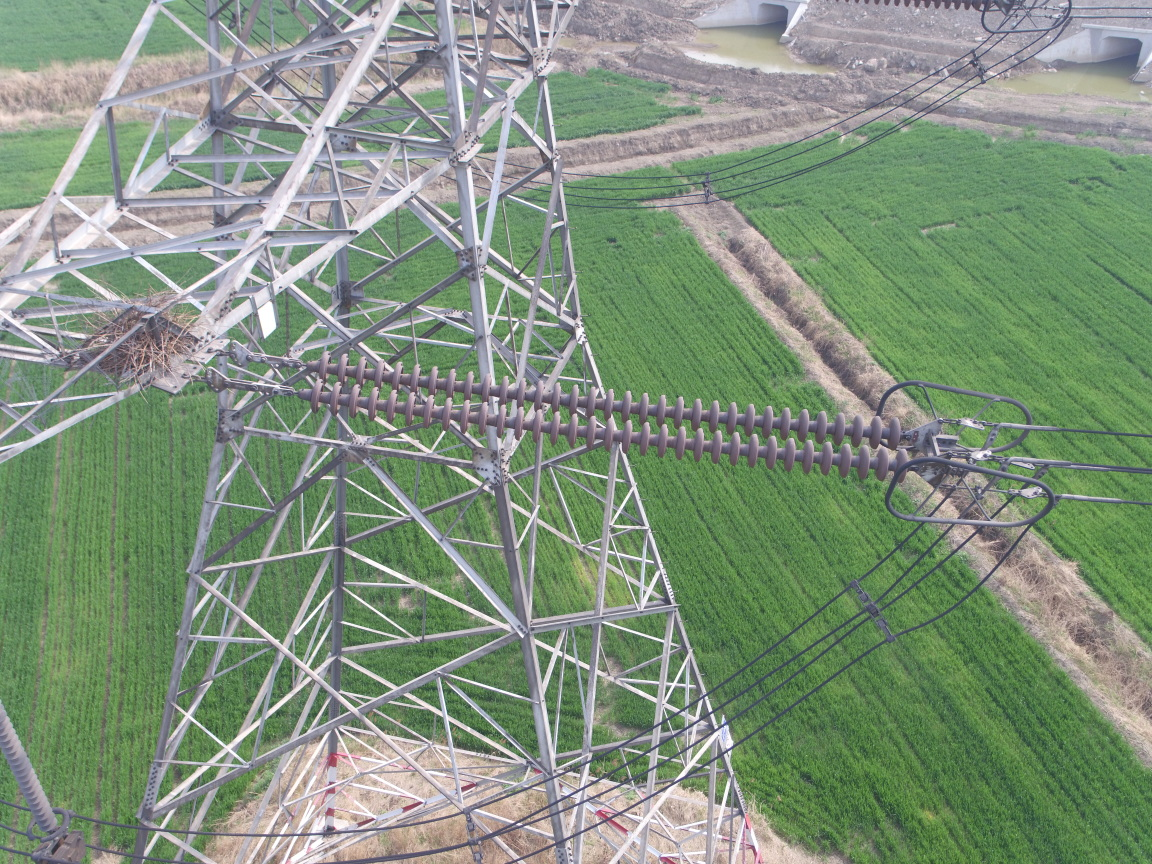insulator: (261, 352, 922, 485)
